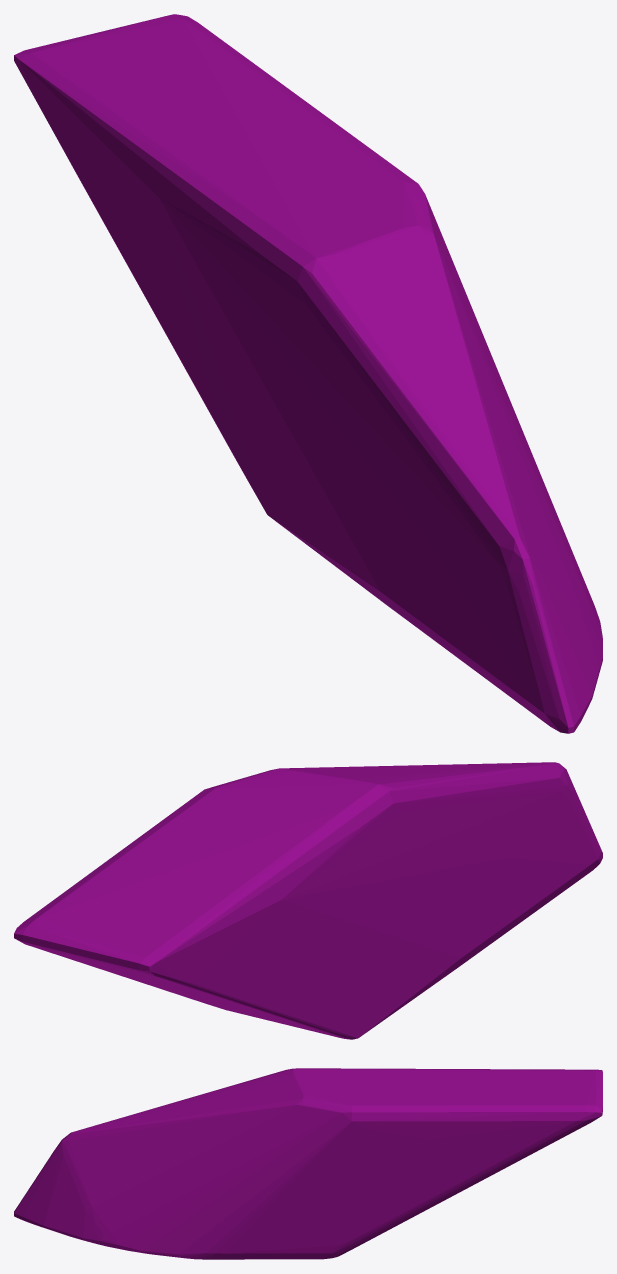
Rendered from right-toe-roll-0_part_14.obj.
The picture shows the model from 3 angles, top to bottom: view 1: azimuth 30°, elevation 25°; view 2: azimuth 150°, elevation 25°; view 3: azimuth 270°, elevation 25°; orthographic projection. The views are drawn at different scales.
Size of the model in its own units: 0.0231 by 0.035 by 0.1211.
